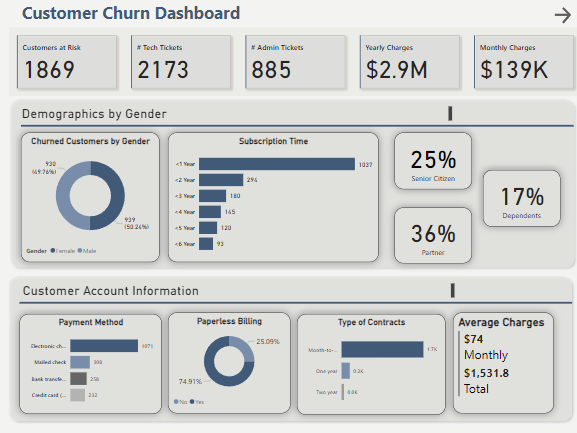

What the dashboard file says about the page in this screenshot:
{"tool":"powerbi","page":{"name":"CC","canvas":[1300,967],"ordinal":0},"visuals":[{"type":"cardVisual","fields":{"Data":["CountNonNull(01 Churn-Dataset.customerID)","Sum(01 Churn-Dataset.numTechTickets)","Sum(01 Churn-Dataset.numAdminTickets)","Sum(01 Churn-Dataset.TotalCharges)","Sum(01 Churn-Dataset.MonthlyCharges)"]},"box":[18.9,62.2,1273.3,152.2],"z":0},{"type":"shape","box":[12,214,1272,392],"z":1000},{"type":"donutChart","title":"Churned Customers by Gender","fields":{"Category":["01 Churn-Dataset.gender"],"Y":["CountNonNull(01 Churn-Dataset.gender)"]},"box":[46,298,308,288],"z":2000},{"type":"barChart","title":"Subscription Time","fields":{"Category":["01 Churn-Dataset.Tenure(Years)"],"Y":["CountNonNull(01 Churn-Dataset.Churn)"]},"box":[374,298,468,288],"z":3000},{"type":"card","fields":{"Values":["Measures (2).Senior Citizen"]},"box":[878,298,172,126],"z":4000},{"type":"card","fields":{"Values":["Measures (2).Partner %"]},"box":[878,462,172,124],"z":5000},{"type":"card","fields":{"Values":["Measures (2).Dependents %"]},"box":[1074,380,172,126],"z":6000},{"type":"shape","box":[10,605,1270,340],"z":7000},{"type":"barChart","title":" Payment Method","fields":{"Y":["CountNonNull(01 Churn-Dataset.Churn)"],"Category":["01 Churn-Dataset.PaymentMethod"]},"box":[42,700,316,222],"z":8000},{"type":"clusteredBarChart","title":"Type of Contracts","fields":{"Category":["01 Churn-Dataset.Contract"],"Y":["CountNonNull(01 Churn-Dataset.Contract)"]},"box":[660,700,330,224],"z":9000},{"type":"donutChart","title":"Paperless Billing","fields":{"Category":["01 Churn-Dataset.PaperlessBilling"],"Y":["CountNonNull(01 Churn-Dataset.PaperlessBilling)"]},"box":[374,698,272,224],"z":10000},{"type":"multiRowCard","title":"Average Charges","fields":{"Values":["Avg(01 Churn-Dataset.MonthlyCharges)","Avg(01 Churn-Dataset.TotalCharges)"]},"box":[1008,698,224,224],"z":11000},{"type":"textbox","box":[46,628,968,42],"z":12000},{"type":"shape","box":[42,650,1228,50],"z":13000},{"type":"textbox","box":[42,234,966,42],"z":14000},{"type":"shape","box":[46,256,1228,50],"z":15000},{"type":"textbox","box":[42.5,0,1107.5,62.5],"z":16000},{"type":"actionButton","box":[1228,12,52,46],"z":17000}]}

Visuals, with their boxes in screenshot pixels (x1, y1, x2, y2), scaled from the page's 1300x967 canvas onto the 577x433 screenshot:
cardVisual - CountNonNull(01 Churn-Dataset.customerID) x Sum(01 Churn-Dataset.numTechTickets): rect(8, 28, 574, 96)
shape: rect(5, 96, 570, 271)
"Churned Customers by Gender" donutChart: rect(20, 133, 157, 262)
"Subscription Time" barChart: rect(166, 133, 374, 262)
card - Measures (2).Senior Citizen: rect(390, 133, 466, 190)
card - Measures (2).Partner %: rect(390, 207, 466, 262)
card - Measures (2).Dependents %: rect(477, 170, 553, 227)
shape: rect(4, 271, 568, 423)
" Payment Method" barChart: rect(19, 313, 159, 413)
"Type of Contracts" clusteredBarChart: rect(293, 313, 439, 414)
"Paperless Billing" donutChart: rect(166, 313, 287, 413)
"Average Charges" multiRowCard: rect(447, 313, 547, 413)
textbox: rect(20, 281, 450, 300)
shape: rect(19, 291, 564, 313)
textbox: rect(19, 105, 447, 124)
shape: rect(20, 115, 565, 137)
textbox: rect(19, 0, 510, 28)
actionButton: rect(545, 5, 568, 26)
